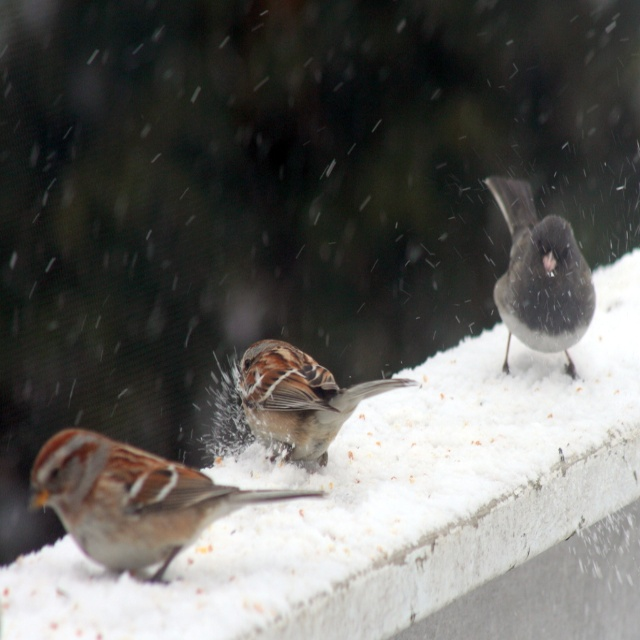Sparrow: (34, 427, 325, 575), (235, 336, 414, 466), (481, 179, 597, 375)
